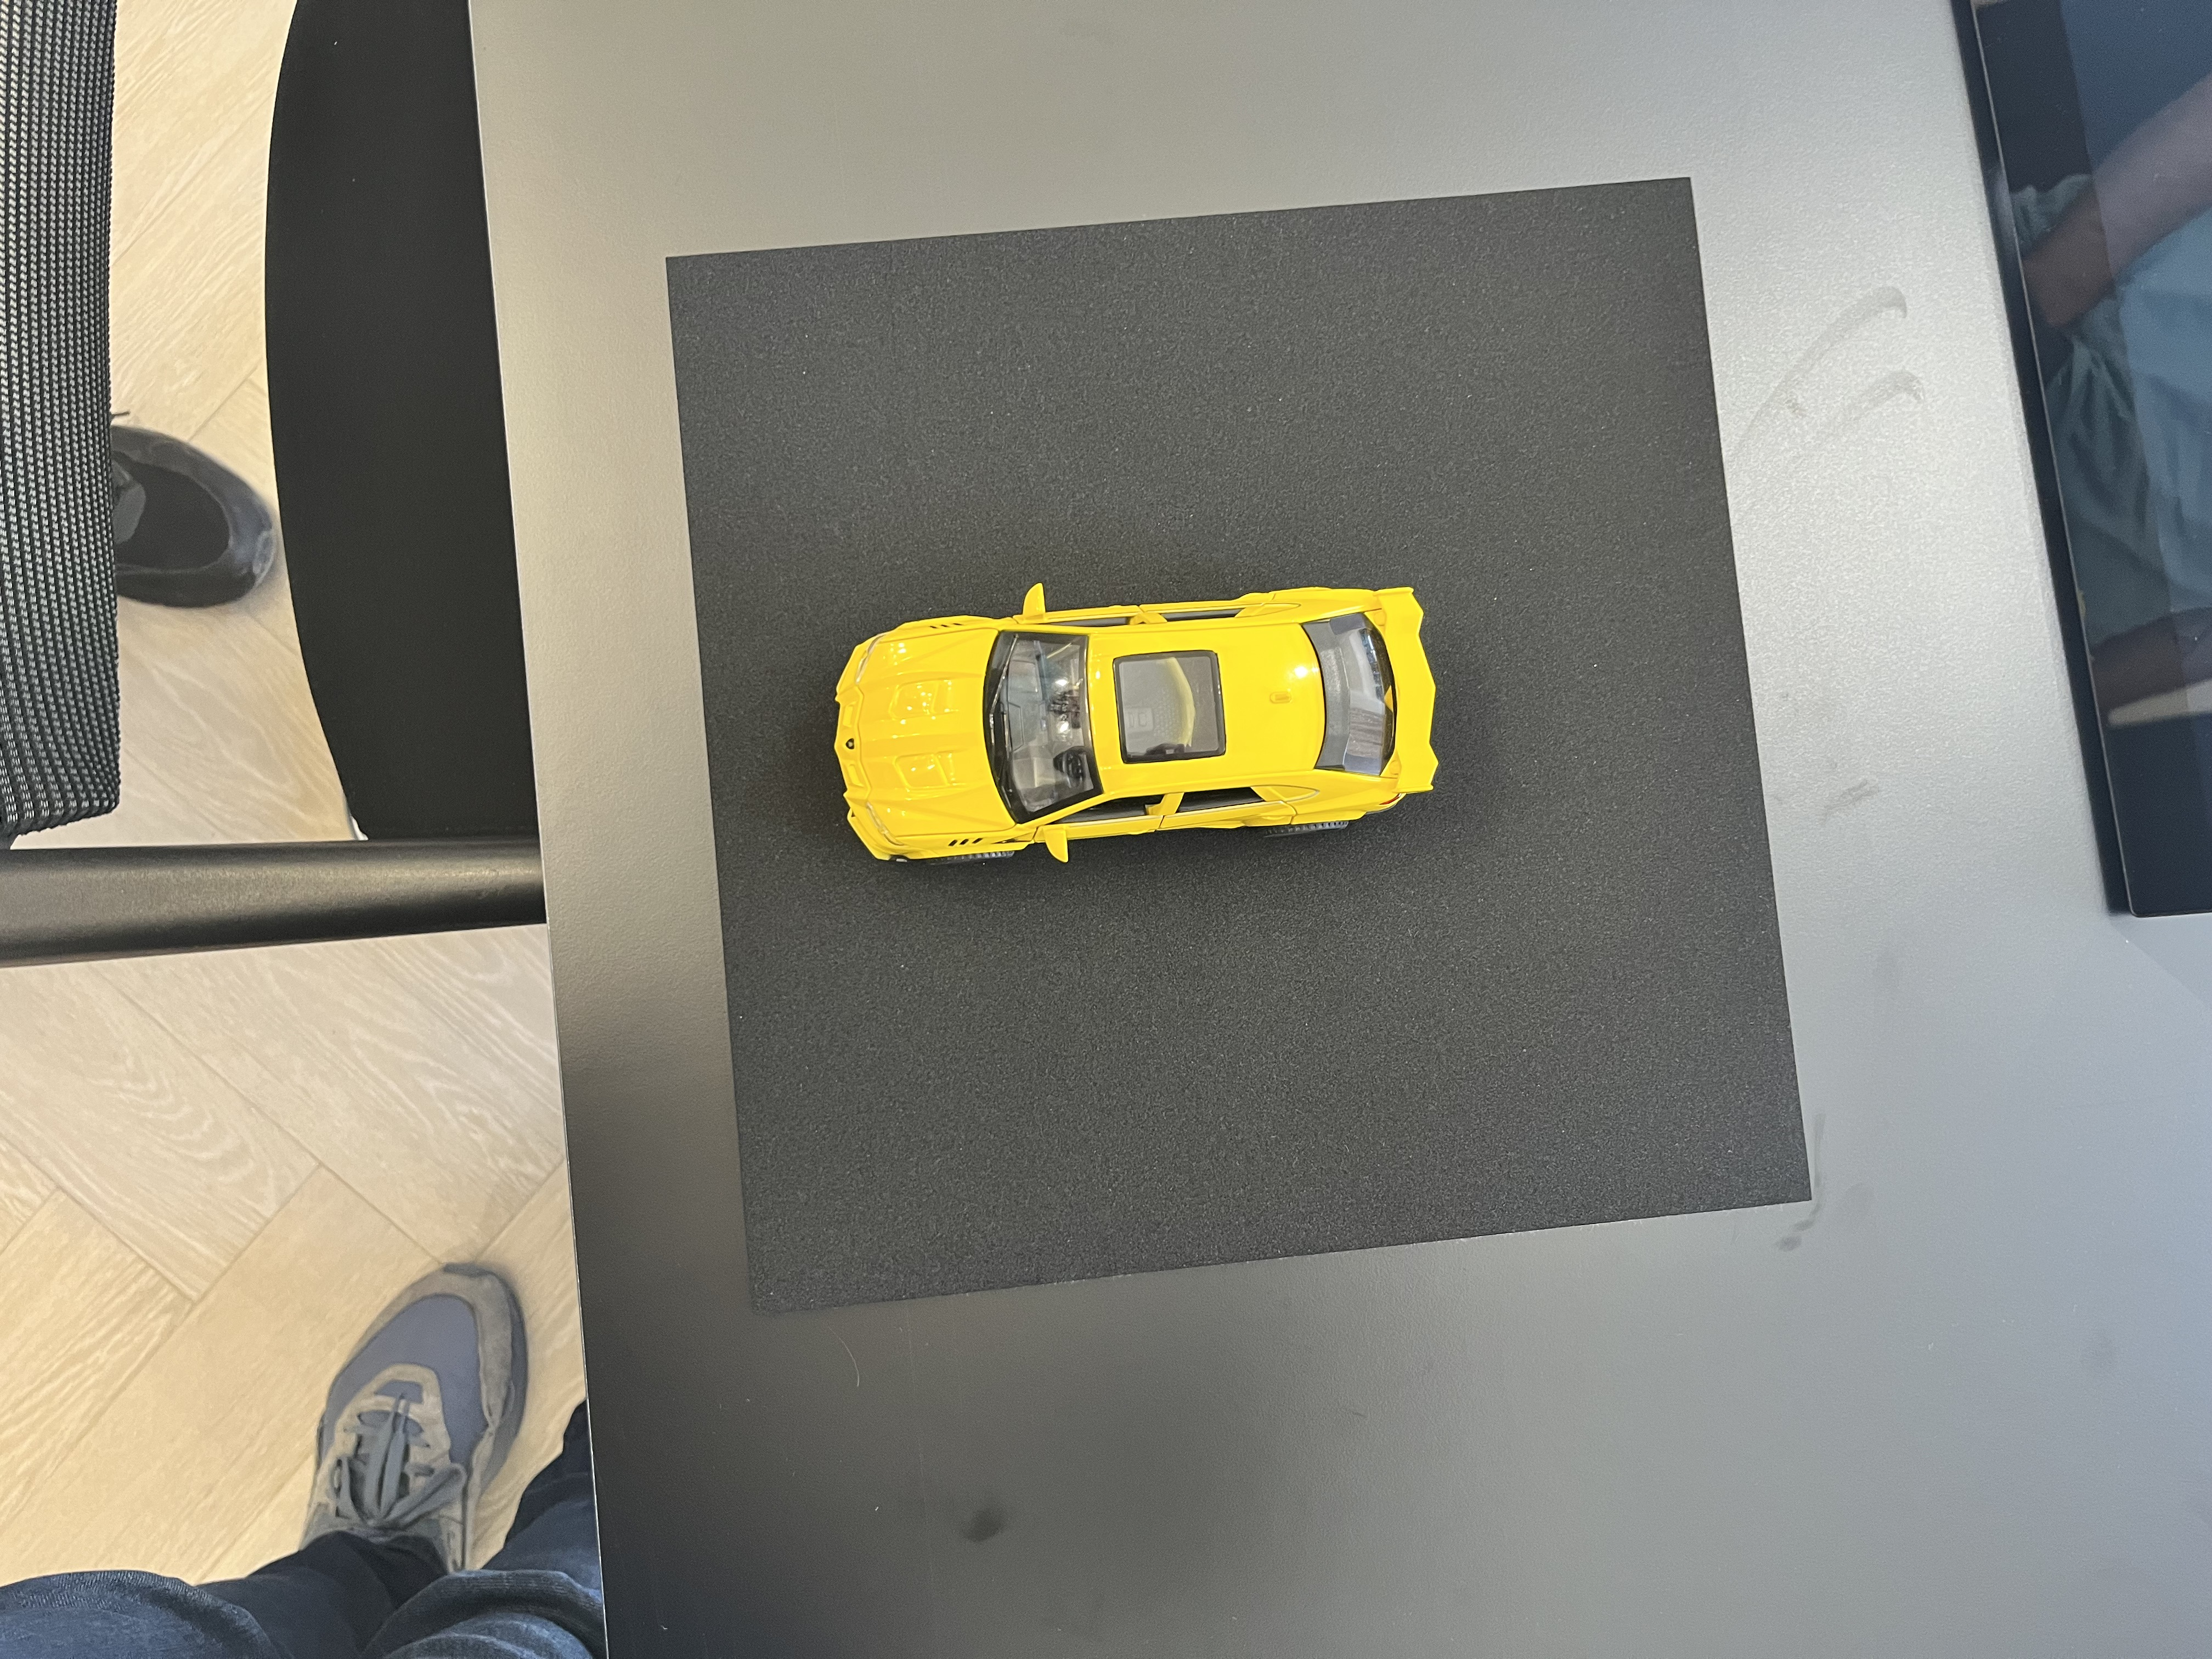lambo: (833, 579, 1433, 875)
